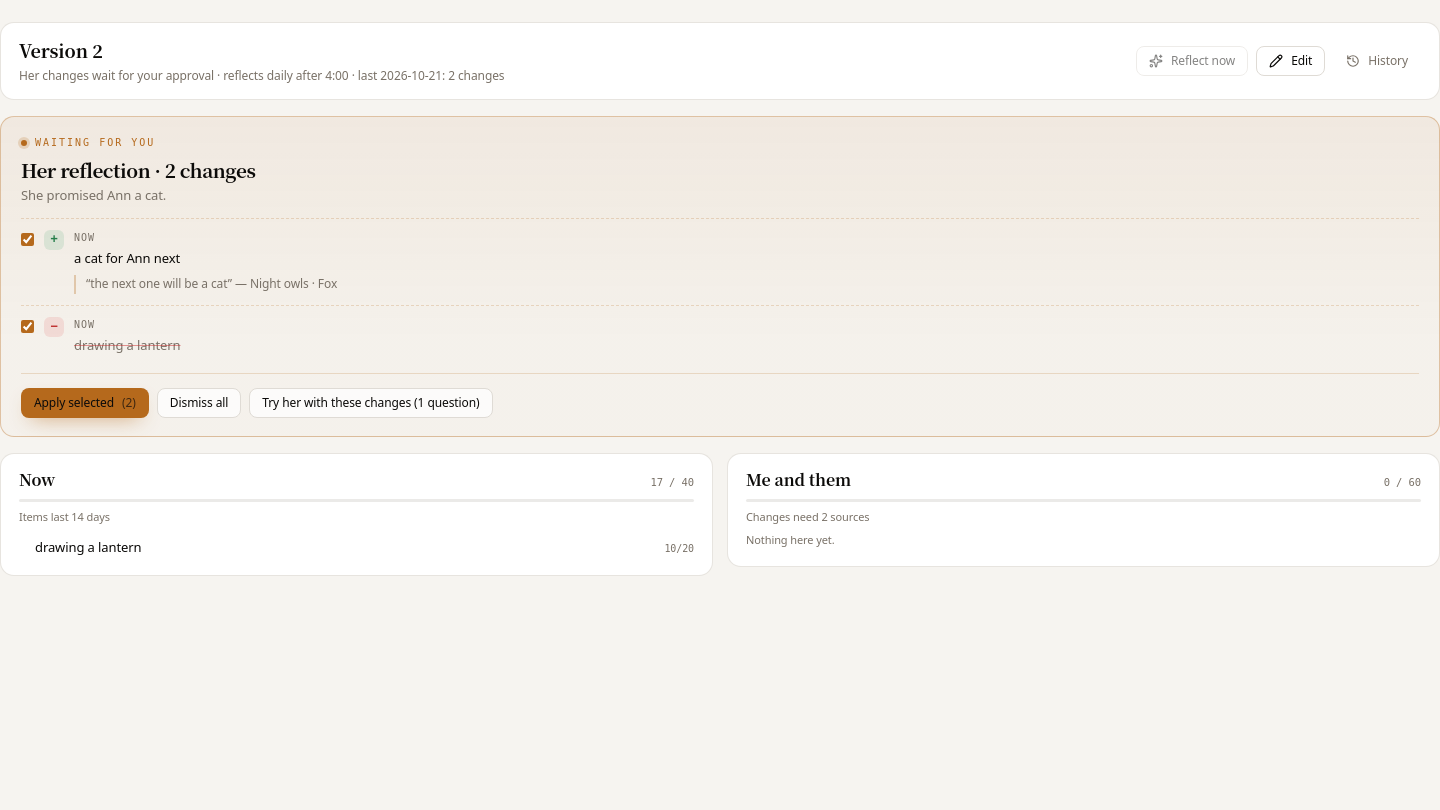
Test: QueenSoulSection › tries her with the changes and shows the answers side by side
This screenshot has width=1440, height=810.
Click the button "Try her with these changes (1 question)".
click(371, 403)  # box [249, 388, 493, 418]
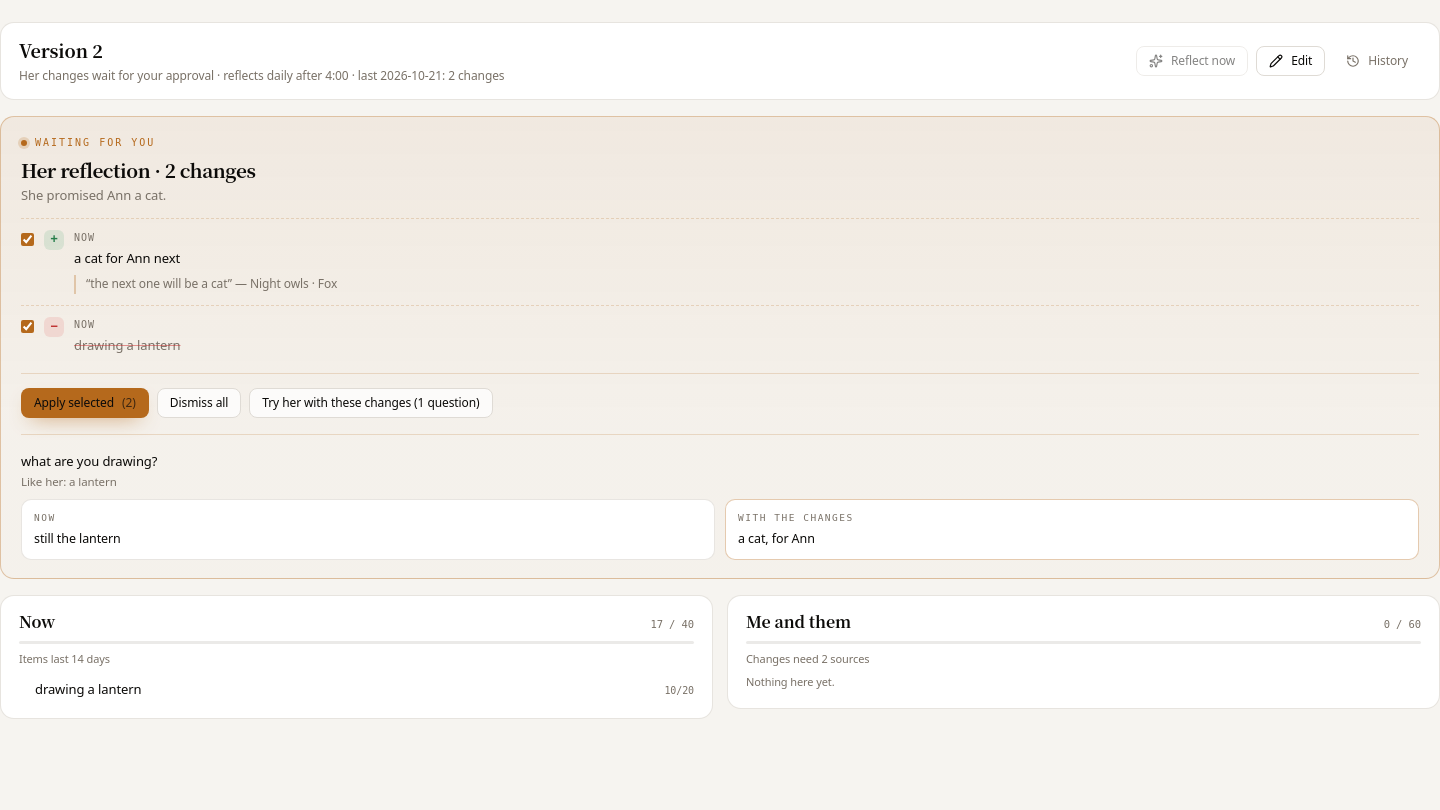
Check: the text "a cat, for Ann" is shown, box [738, 530, 815, 547]
Check: the text "Like her: a lantern" is shown, box [21, 474, 117, 489]
Check: the text "Now" next to "With the changes" is shown, box [34, 512, 56, 523]
